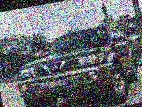car: (10, 20, 142, 107)
